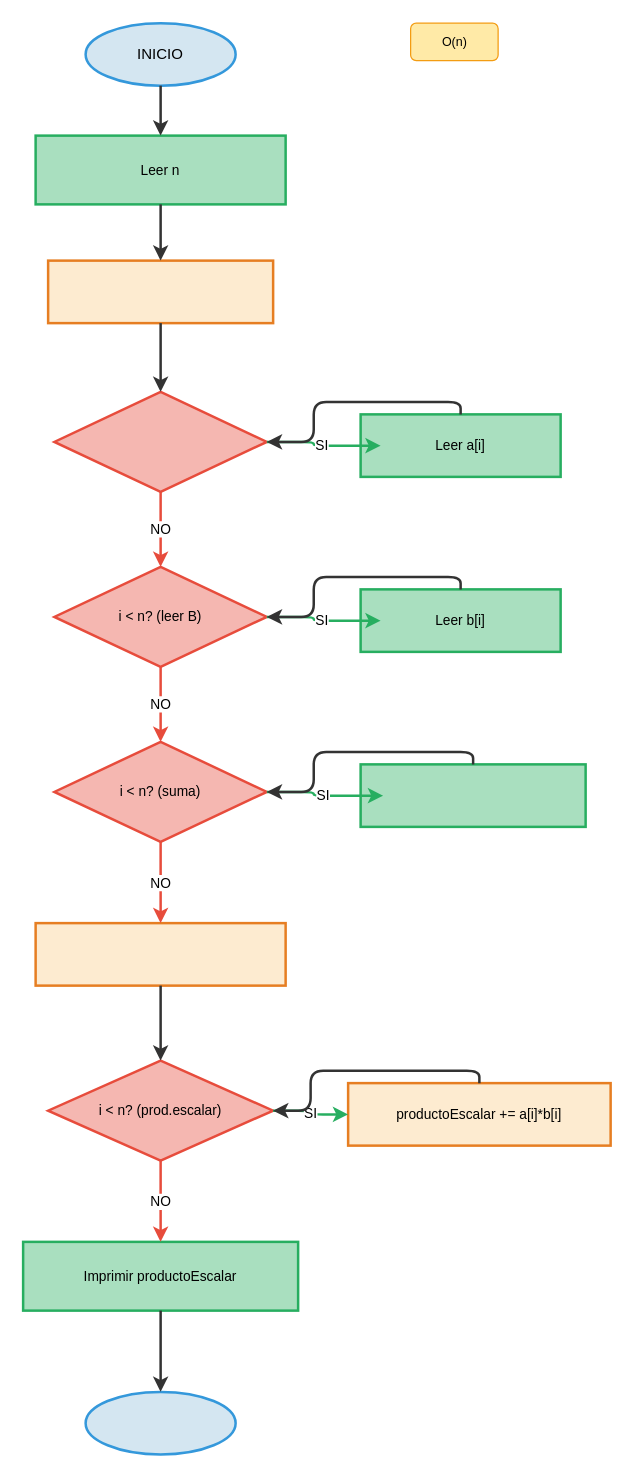
Some shapes in this 633 by 1476 pixel diagram are drawn without their labels. Each missing label, with the centre of its shape:
"a[n], b[n]" goes at (160,291).
"FIN" goes at (160,1422).
"i < n? (leer A)" goes at (160,441).
"Imprimir a[i]+b[i]" goes at (472,795).
"productoEscalar = 0" goes at (160,953).
